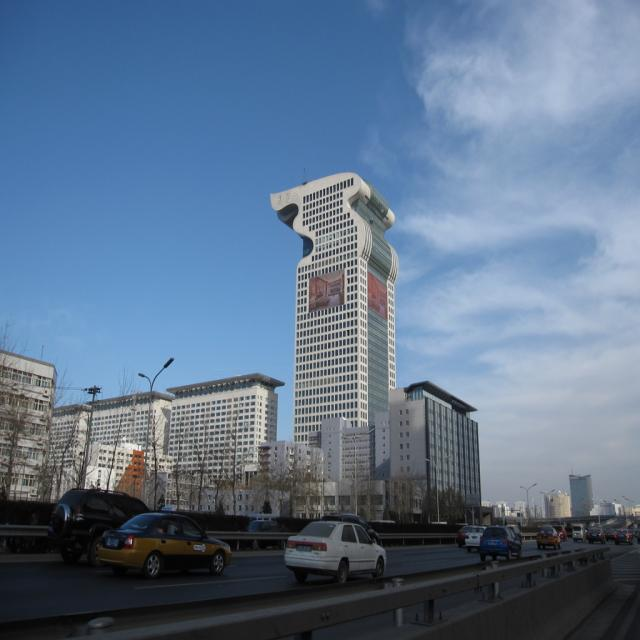car: (94, 503, 232, 581), (276, 522, 388, 589)
